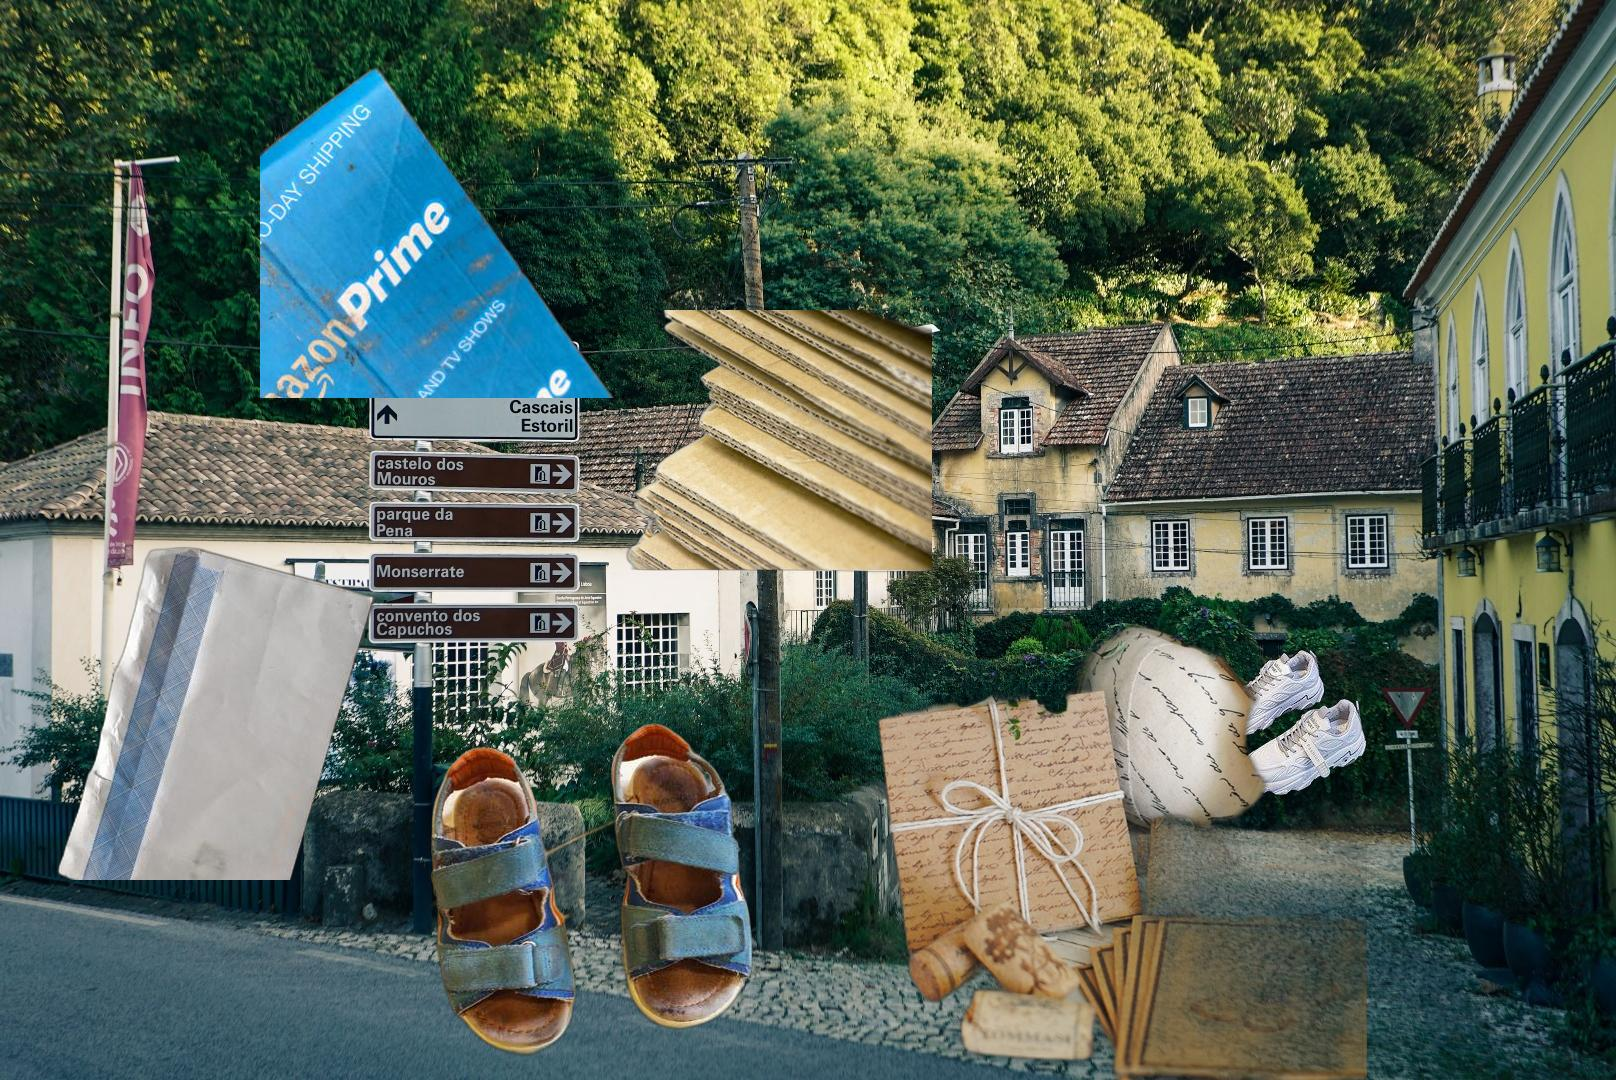paper: (54, 544, 381, 880)
shoes: (417, 720, 756, 1060), (1209, 646, 1369, 798)
trashbox-cardboard: (874, 579, 1367, 1080), (260, 14, 619, 398), (623, 310, 932, 589)
